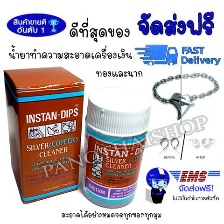book: (0, 62, 86, 208)
cleaning_solution: (78, 85, 152, 210)
